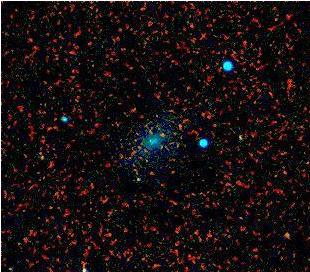star: (123, 164, 153, 194)
